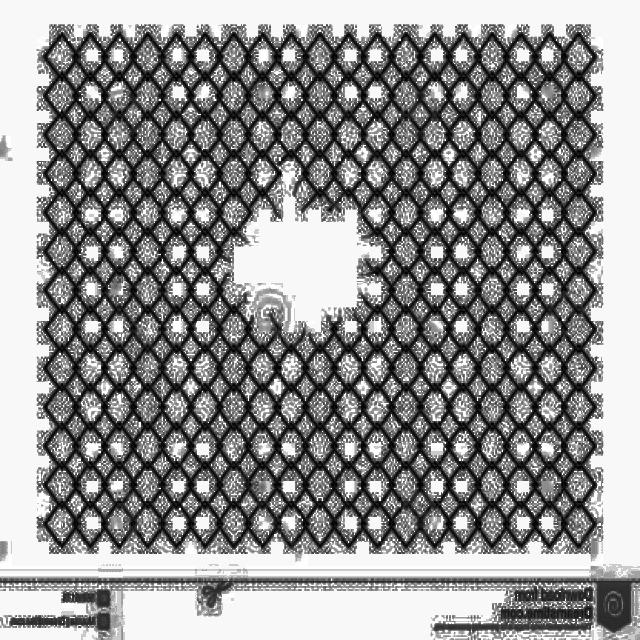anomaly-fence: (201, 150, 426, 404)
